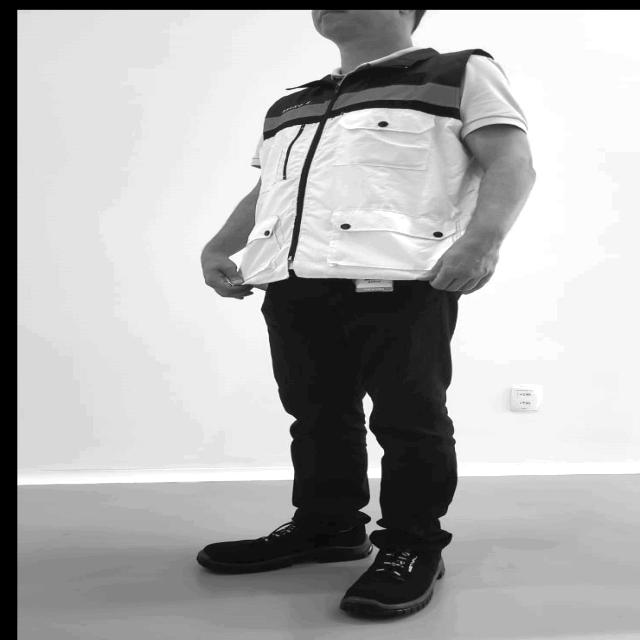Boots: (188, 523, 372, 583), (332, 542, 458, 625)
Vest: (259, 72, 452, 277)
